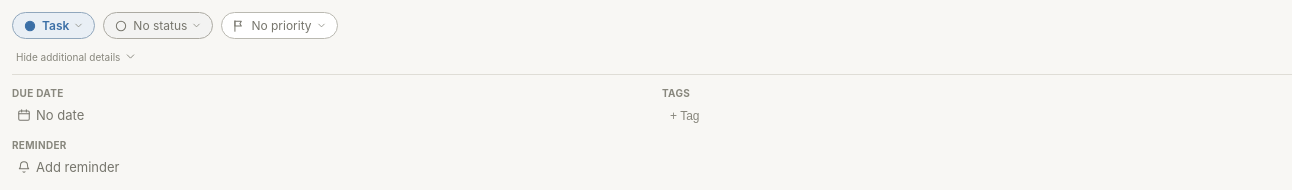
Scenario: DocumentMetaBar compact metadata › can collapse and reopen additional metadata
Click the button "Hide additional details".
click(77, 56)  # box [12, 47, 141, 66]
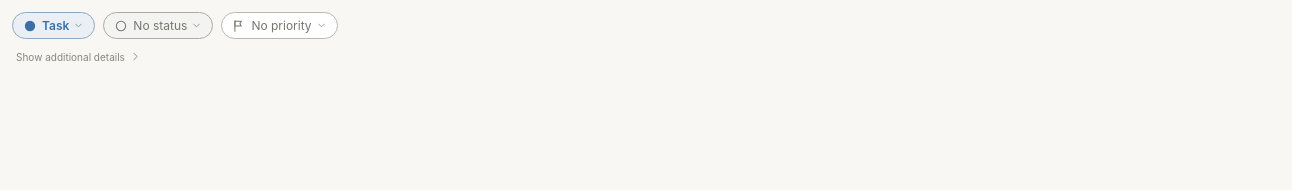
Expected: the button "Show additional details" is shown
Expected: the text "Due date" is gone
Click the button "Show additional details".
click(79, 56)  # box [12, 47, 146, 66]
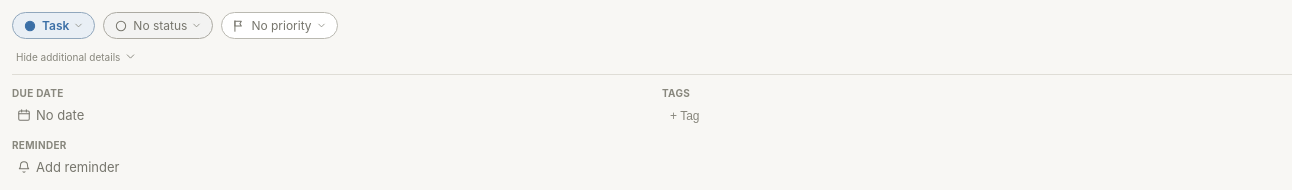
Expected: the text "Due date" is shown, [12, 87, 64, 99]
